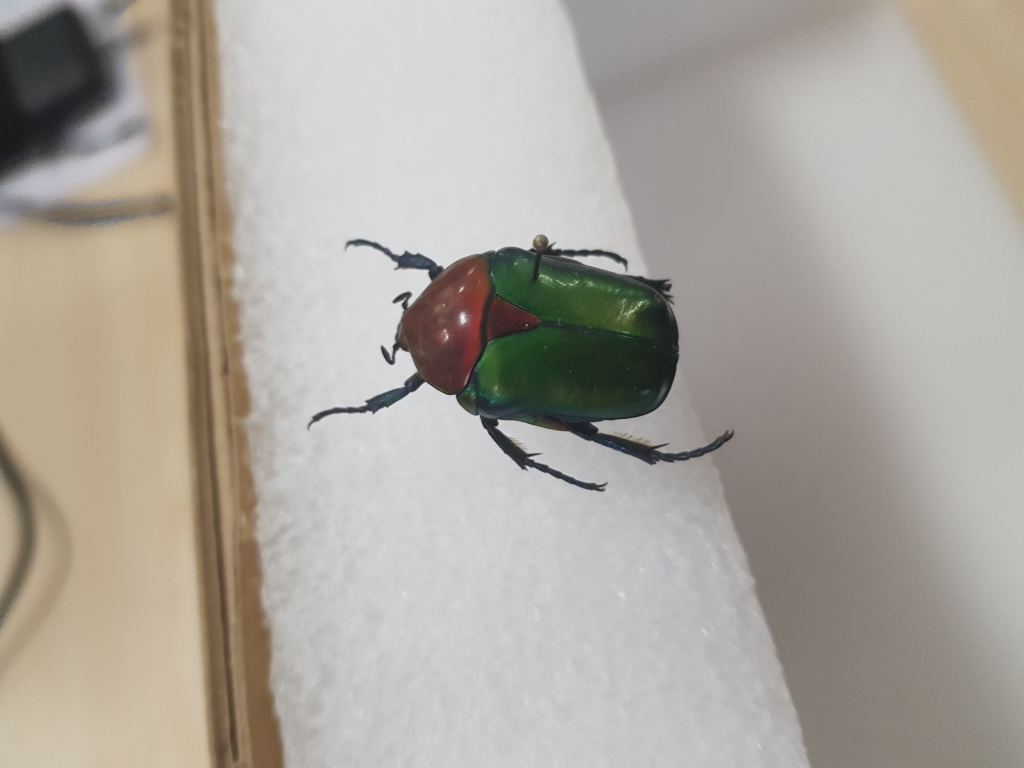Protaetia_speciosa_jousseliniw: (303, 210, 747, 510)
